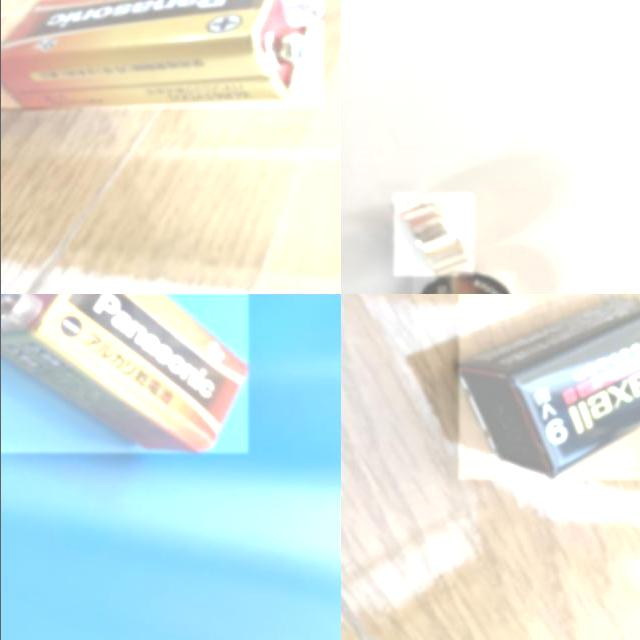9V: (0, 294, 247, 453), (0, 0, 322, 107), (459, 294, 640, 479)
